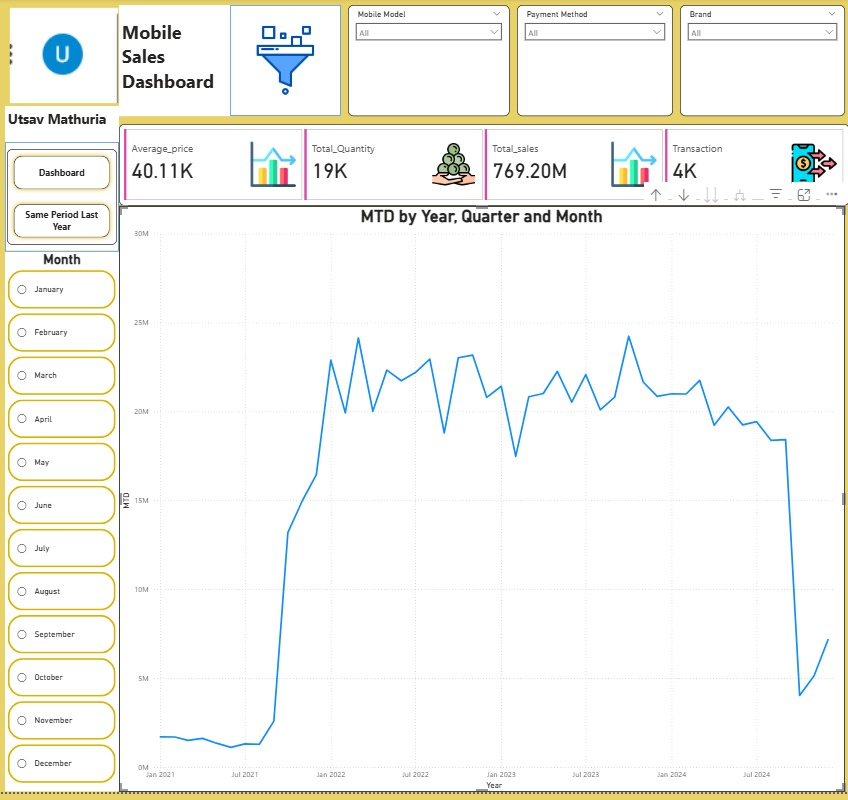

Layout of this report page (visuals, bound fields, positions):
{"tool":"powerbi","page":{"name":"MTD Report","canvas":[1500,1400],"ordinal":1},"visuals":[{"type":"image","box":[14.1,12.3,201,178.1],"z":0},{"type":"textbox","box":[10.7,189.9,200.6,64.3],"z":1000},{"type":"shape","box":[10.7,254.2,200.6,192.9],"z":2000},{"type":"cardVisual","fields":{"Data":["Mobile_Sales_data.Average_price","Mobile_Sales_data.Total_Quantity","Mobile_Sales_data.Total_sales","Mobile_Sales_data.Transaction"]},"box":[211.7,222.5,1288.3,143.5],"z":3000},{"type":"textbox","box":[211.7,12.6,195.6,195.6],"z":4000},{"type":"shape","box":[407.3,12.6,195.6,195.6],"z":5000},{"type":"image","box":[428.8,43.1,152.5,134.6],"z":6000},{"type":"slicer","fields":{"Values":["Mobile_Sales_data.Mobile Model"]},"box":[615.4,12.6,285.3,195.6],"z":7000},{"type":"slicer","fields":{"Values":["Mobile_Sales_data.Payment Method"]},"box":[913.3,12.6,274.5,195.6],"z":8000},{"type":"slicer","fields":{"Values":["Mobile_Sales_data.Brand"]},"box":[1200.4,12.6,290.7,195.6],"z":9000},{"type":"lineChart","fields":{"Y":["Mobile_Sales_data.MTD"],"Category":["Custom_Calender.Date.Variation.Date Hierarchy.Year","Custom_Calender.Date.Variation.Date Hierarchy.Quarter","Custom_Calender.Date.Variation.Date Hierarchy.Month"]},"box":[211.7,366,1279.3,1033.5],"z":10000},{"type":"advancedSlicerVisual","fields":{"Values":["Custom_Calender.Month"]},"box":[10.8,448.6,201,951],"z":11000},{"type":"pageNavigator","box":[14.1,266.2,194,169.3],"z":12000}]}

Visuals, with their boxes on the page's 1500x1400 design canvas (x1, y1, x2, y2). These are canvas units, not pixel positions in the 848x800 screenshot, which may show the page scaled, cropped or inside an application window:
image: (14, 12, 215, 190)
textbox: (11, 190, 211, 254)
shape: (11, 254, 211, 447)
cardVisual - Mobile_Sales_data.Average_price x Mobile_Sales_data.Total_Quantity: (212, 222, 1500, 366)
textbox: (212, 13, 407, 208)
shape: (407, 13, 603, 208)
image: (429, 43, 581, 178)
slicer - Mobile_Sales_data.Mobile Model: (615, 13, 901, 208)
slicer - Mobile_Sales_data.Payment Method: (913, 13, 1188, 208)
slicer - Mobile_Sales_data.Brand: (1200, 13, 1491, 208)
lineChart - Mobile_Sales_data.MTD x Custom_Calender.Date.Variation.Date Hierarchy.Year: (212, 366, 1491, 1400)
advancedSlicerVisual - Custom_Calender.Month: (11, 449, 212, 1400)
pageNavigator: (14, 266, 208, 436)
